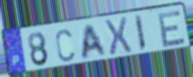8: (27, 30, 49, 68)
A: (81, 23, 108, 61)
C: (54, 28, 76, 64)
E: (157, 8, 188, 49)
I: (134, 14, 148, 53)
X: (103, 16, 134, 58)
